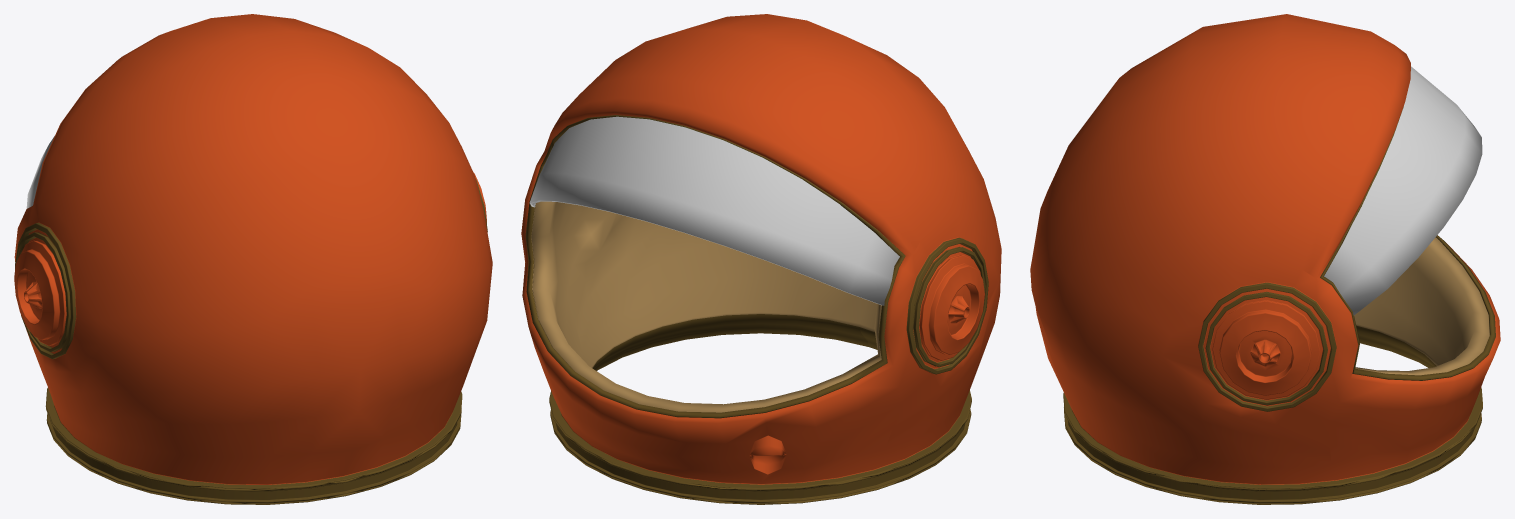
File: helmet.gltf
3 renders of one model, left to right at view 1: azimuth 30°, elevation 25°; view 2: azimuth 150°, elevation 25°; view 3: azimuth 270°, elevation 25°, orthographic.
Visible parts, largest first — view 1: HELMET_Chrome_0; view 2: HELMET_Chrome_0; view 3: HELMET_Chrome_0.
Part boxes in pixels (x1,y1,x2,y2): HELMET_Chrome_0: (14,14,492,504); HELMET_Chrome_0: (521,14,1001,504); HELMET_Chrome_0: (1030,14,1500,504).
Size of the model in its own units: 0.4552 by 0.38 by 0.4253.
